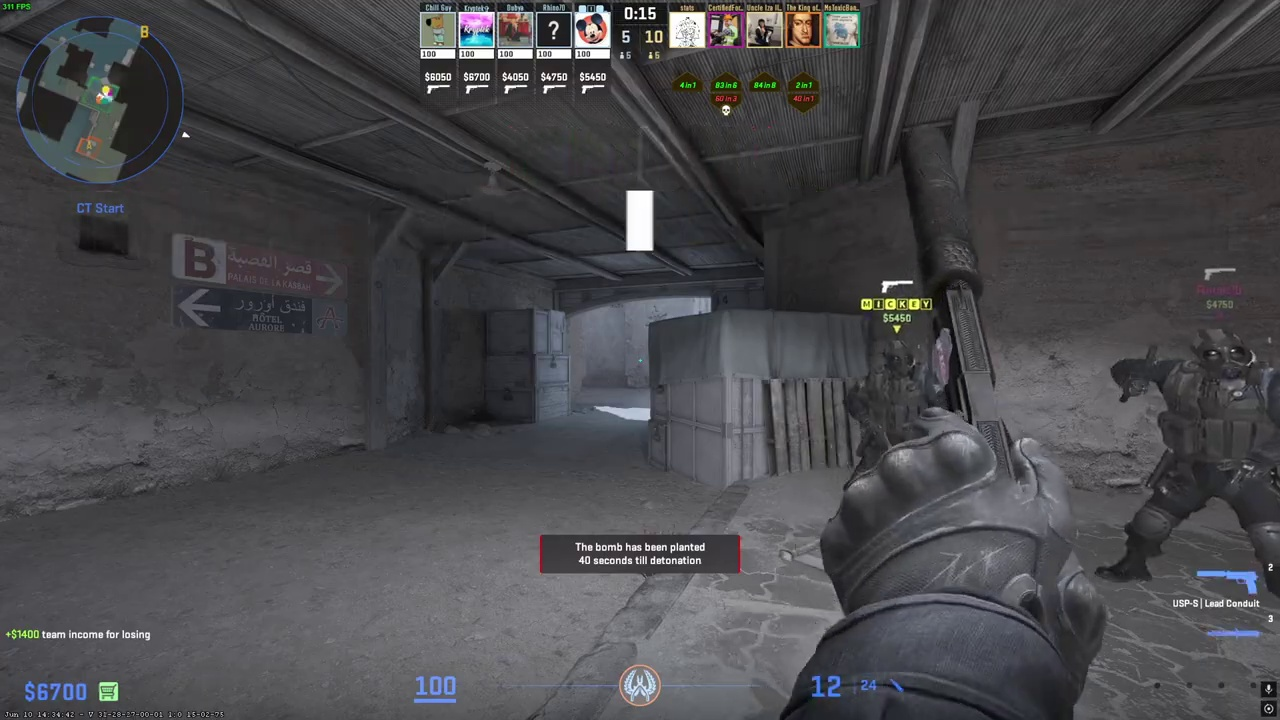CT: (1129, 328, 1280, 602), (847, 339, 944, 458)
